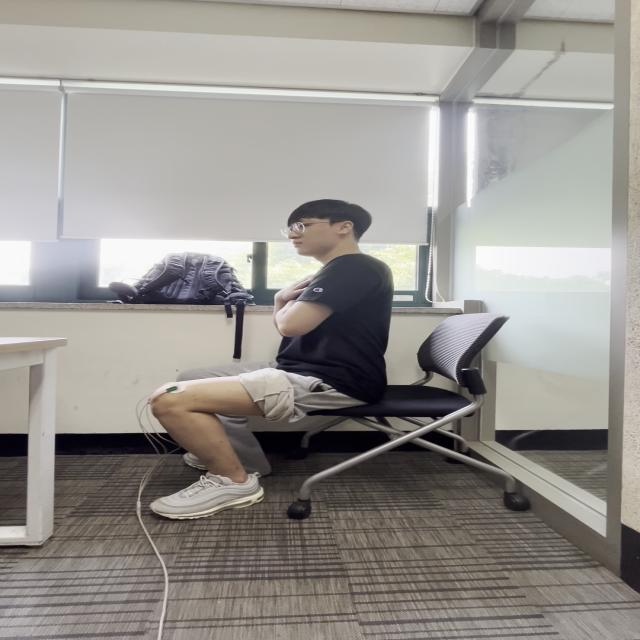squat: (245, 261, 403, 417), (156, 374, 278, 509), (154, 361, 389, 427)
